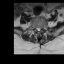CCS_stenosis: (38, 26, 39, 33)
LFS_normal: (41, 24, 42, 30)
LLS_normal: (39, 26, 41, 32)
RFS_stenosis: (34, 25, 36, 30)
RLS_normal: (36, 26, 38, 31)
